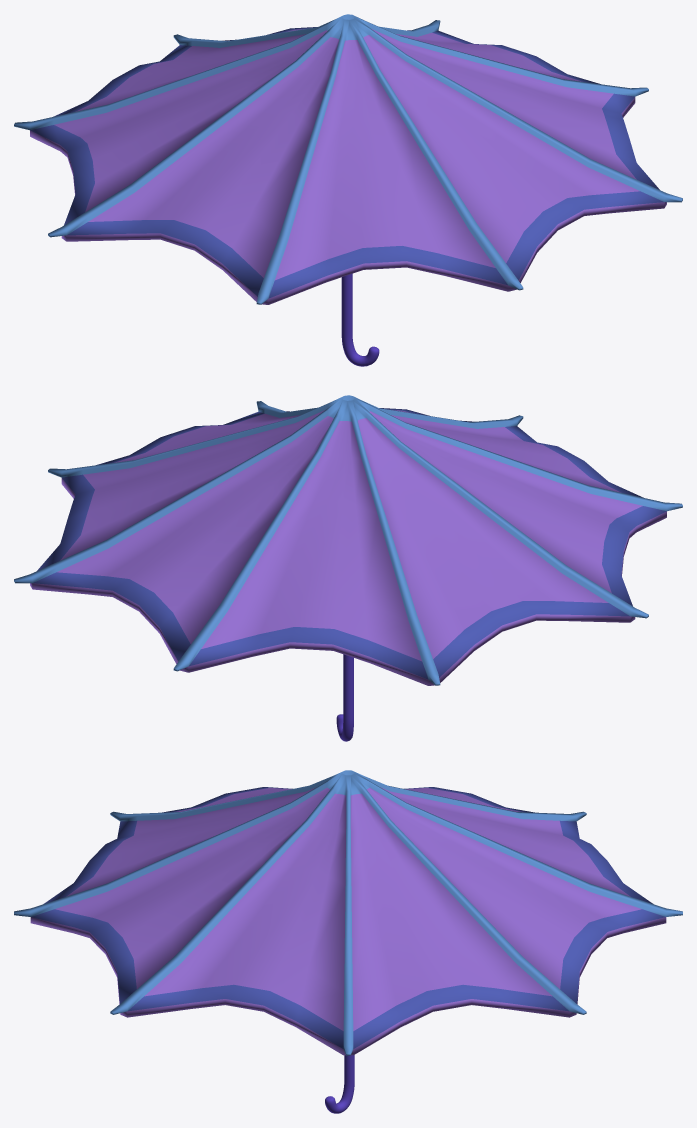
File: Umbrella.fbx
3 views of the same model, one above another, from view 1: azimuth 30°, elevation 25°; view 2: azimuth 150°, elevation 25°; view 3: azimuth 270°, elevation 25° (orthographic). The views are drawn at different scales.
Parts seen in each view (by area): view 1: Umbrella; view 2: Umbrella; view 3: Umbrella.
Part boxes in pixels (<box>): Umbrella: <box>14,14,682,366</box>; Umbrella: <box>14,395,682,741</box>; Umbrella: <box>14,770,682,1113</box>.
Bounding box in the file's own units: 12.29 × 6.81 × 12.29.
